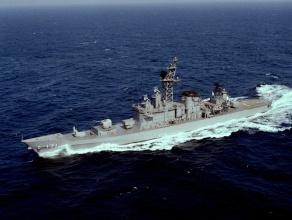warship: (18, 53, 274, 162)
